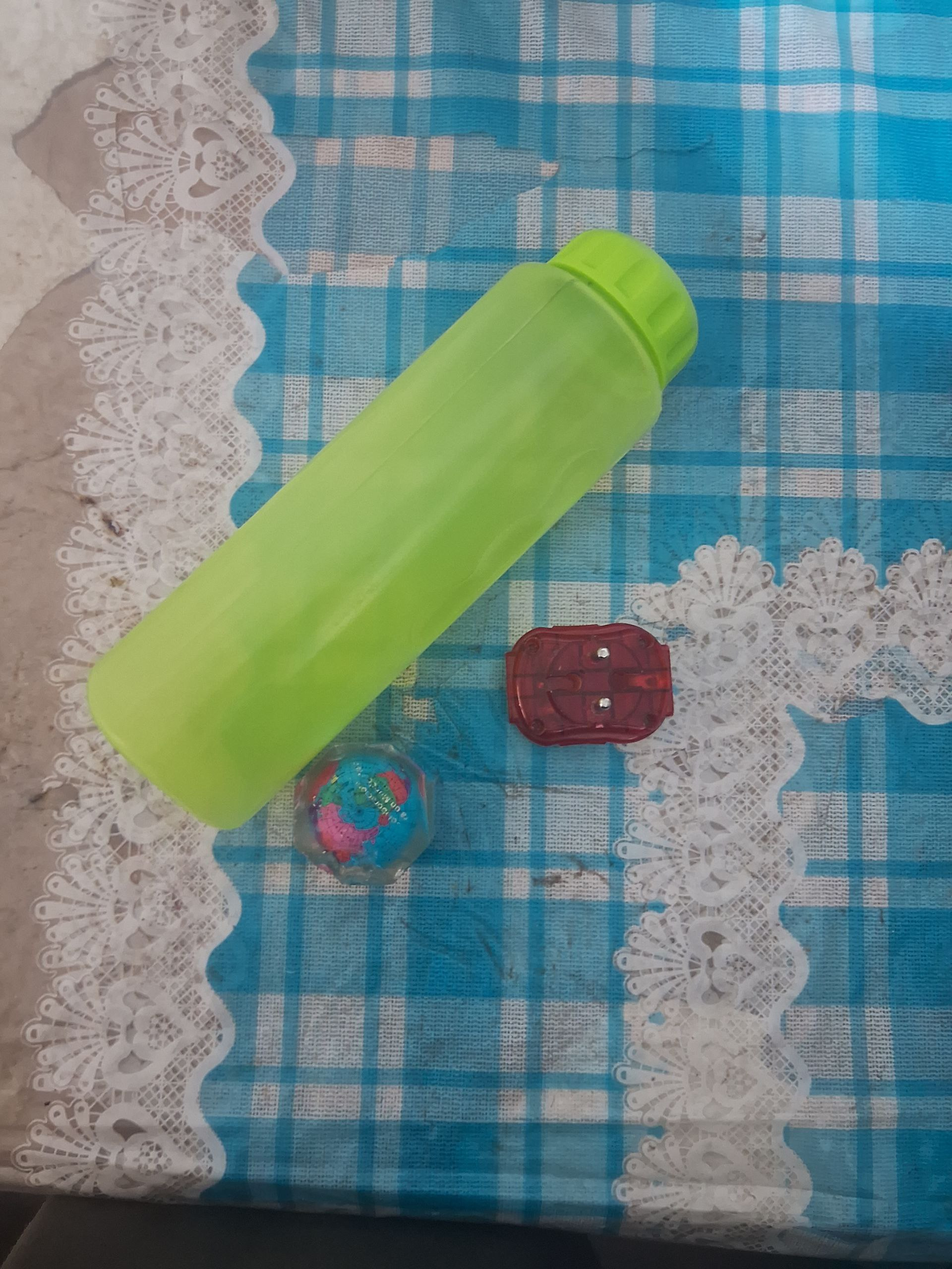Multi_adapter: (502, 617, 683, 750)
Water_bottle: (82, 225, 704, 831)
world_globe: (285, 737, 437, 889)
